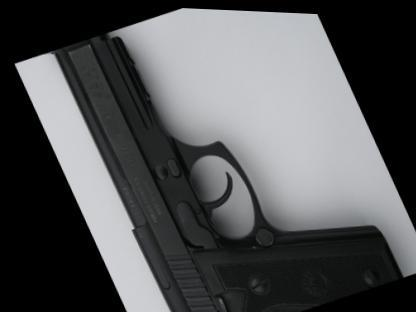pistol: (34, 1, 402, 311)
